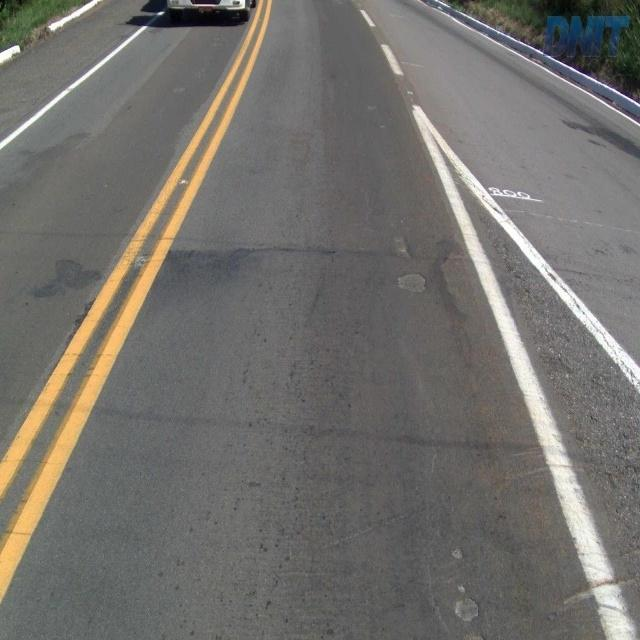pothole: (452, 582, 482, 627), (392, 269, 429, 296), (447, 541, 468, 564)
